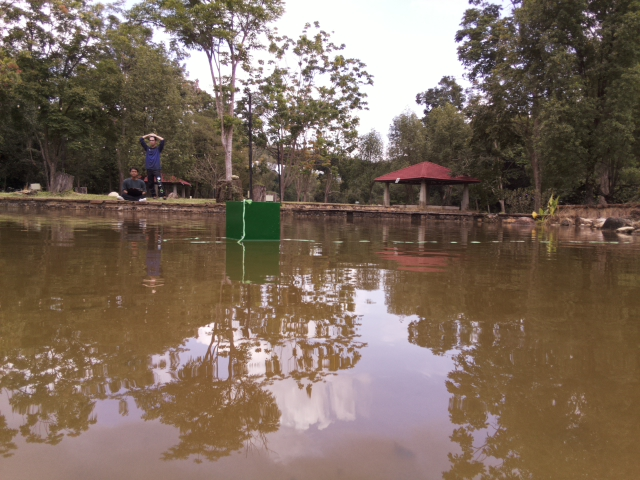obstacle: (225, 200, 281, 242)
